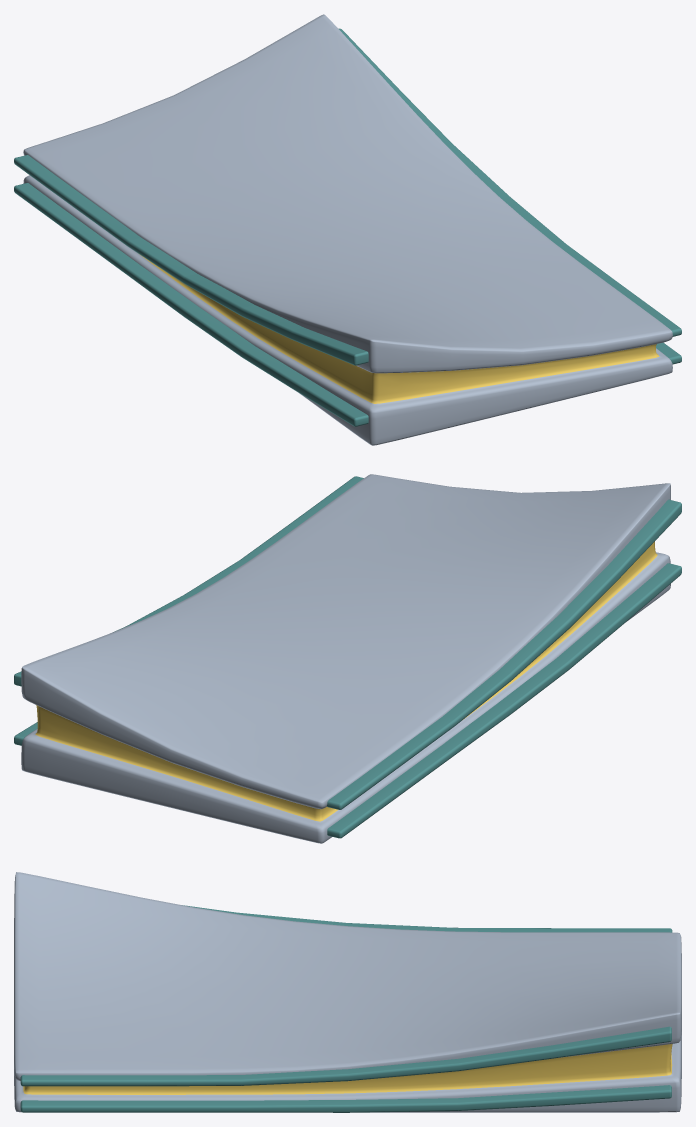
The model's file is SM_Right_Connection_Long_Curve_Platform_01.fbx.
3 renders of one model, top to bottom at view 1: azimuth 30°, elevation 25°; view 2: azimuth 150°, elevation 25°; view 3: azimuth 270°, elevation 25°, orthographic. The views are drawn at different scales.
Visible parts, largest first — view 1: SM_Right_Connection_Long_Curve_Platform_01; view 2: SM_Right_Connection_Long_Curve_Platform_01; view 3: SM_Right_Connection_Long_Curve_Platform_01.
Part boxes in pixels (x1,y1,x2,y2): SM_Right_Connection_Long_Curve_Platform_01: (14,14,681,445); SM_Right_Connection_Long_Curve_Platform_01: (14,474,681,843); SM_Right_Connection_Long_Curve_Platform_01: (14,872,681,1112).
Bounding box in the file's own units: 1620 × 508 × 2999.
